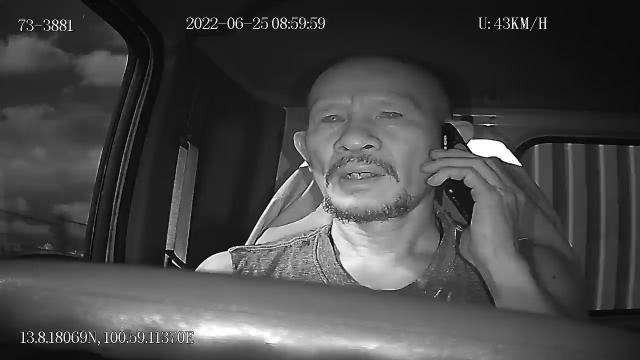PhoneUse: (438, 120, 476, 228)
SafeDriving: (313, 102, 353, 132), (369, 100, 412, 127)
